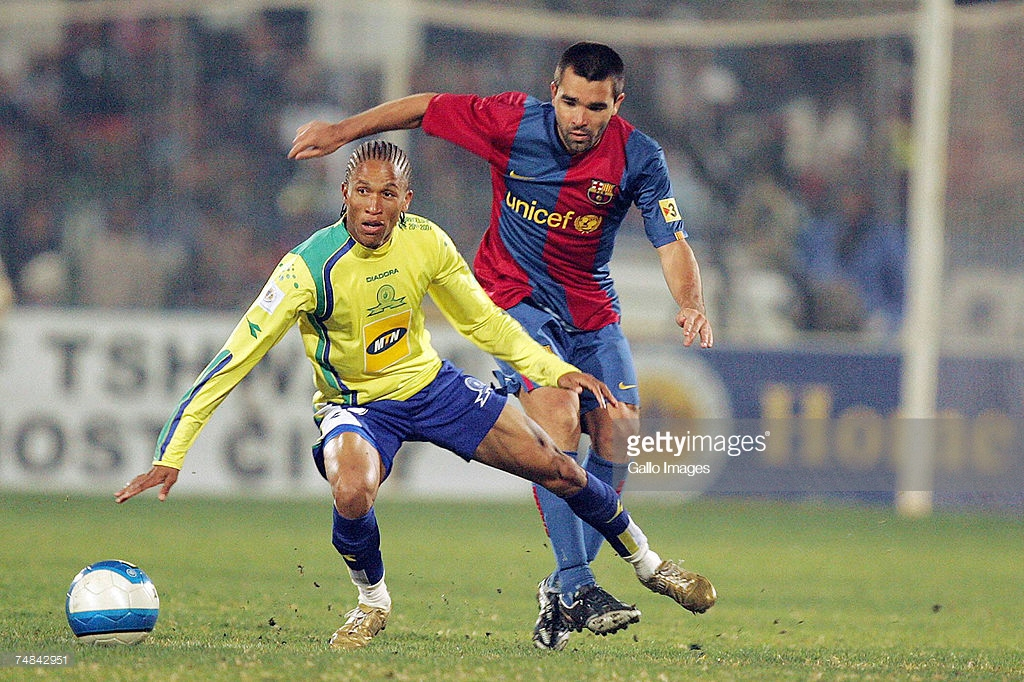soccer player: (110, 137, 722, 630), (285, 25, 705, 650)
soccerball: (60, 556, 164, 654)
